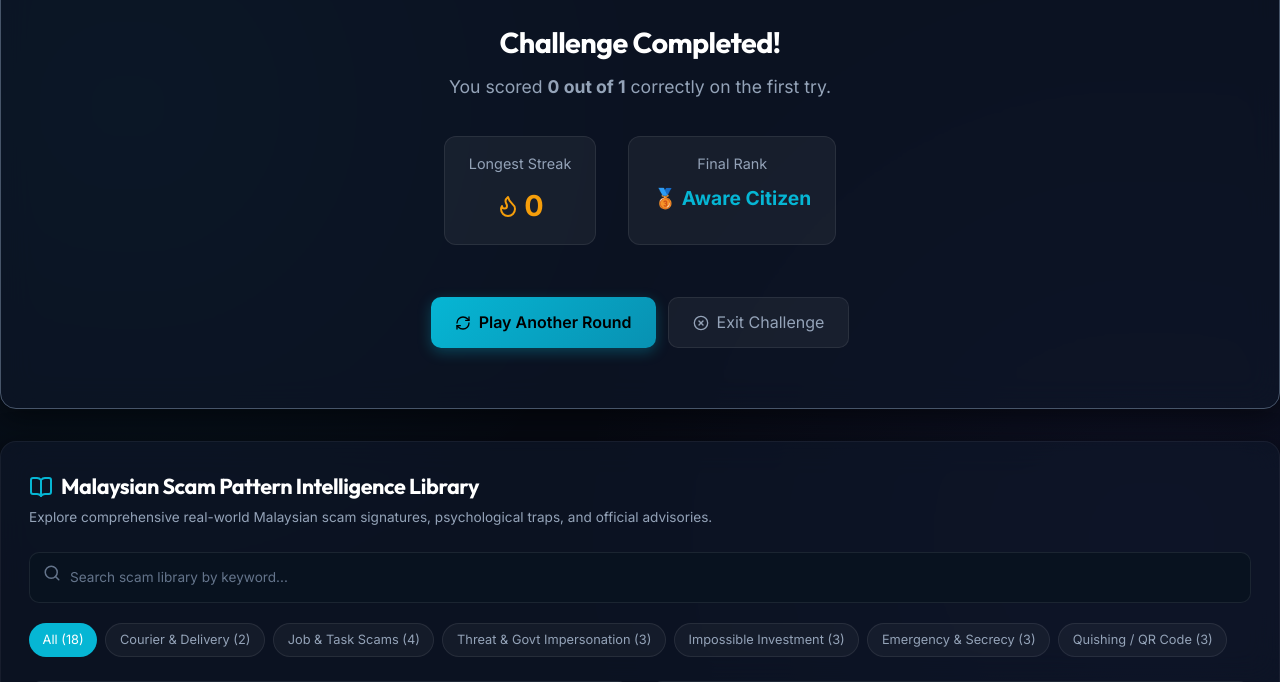
Scenario: Sprint Fixes & Enhancements › Item 14: KnowledgeCentre Challenge Lifecycle › changes questions after completing the challenge and starting another round
(page scrolled)
Expected: the heading "Challenge Completed!" is shown, [500,24,780,60]
Click the button "Play Another Round": (543, 323) [431,297,656,348]
(page scrolled)
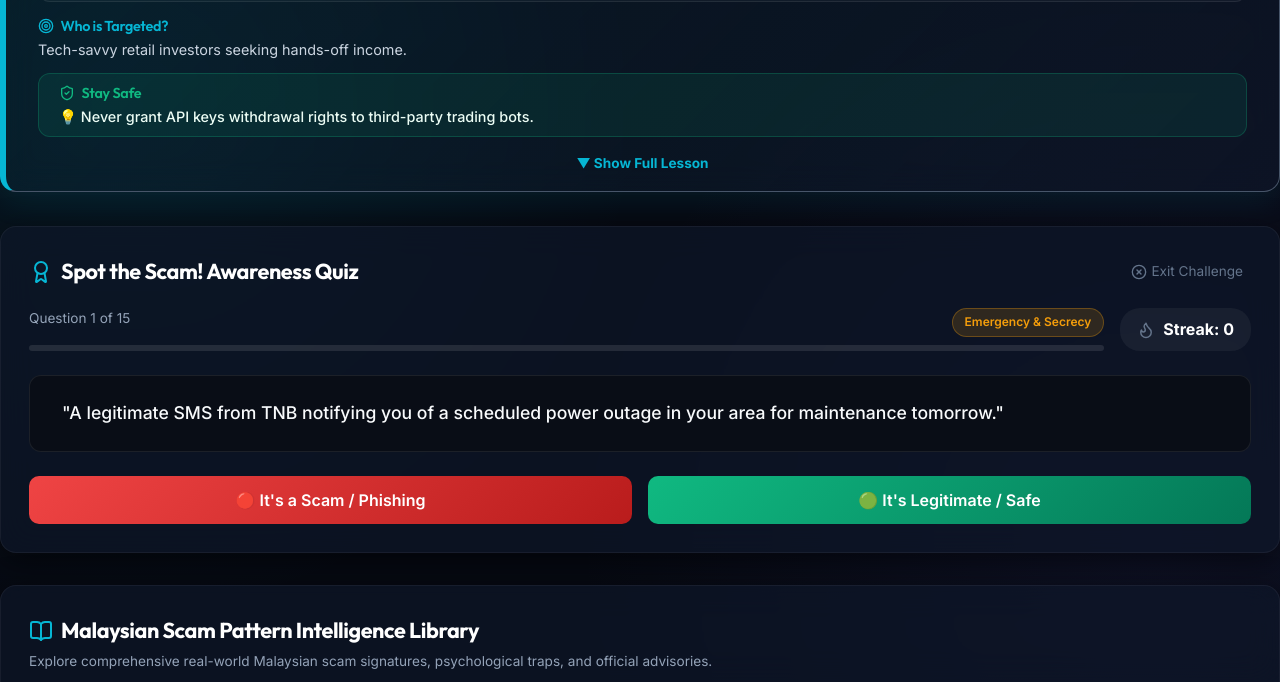
Expected: the text "Question 1 of 15" is shown, [29,310,130,326]
